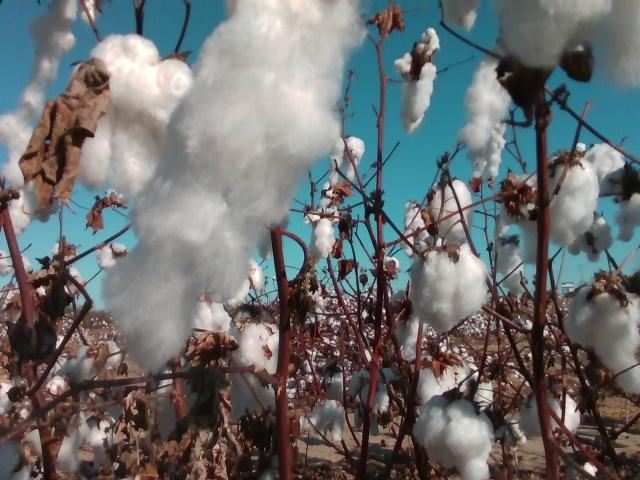cotton_ready: (101, 0, 366, 371), (75, 34, 195, 195), (0, 0, 77, 234), (499, 0, 640, 84), (567, 279, 640, 394), (408, 249, 485, 333), (52, 389, 128, 471), (417, 398, 492, 480), (461, 63, 512, 178), (225, 324, 279, 423), (394, 28, 442, 128), (549, 158, 599, 248), (151, 363, 202, 442), (0, 387, 42, 480), (502, 171, 540, 264), (409, 352, 469, 406), (427, 179, 470, 248), (518, 394, 579, 441), (62, 338, 121, 383), (183, 294, 232, 346), (567, 215, 614, 262), (582, 141, 625, 186)
